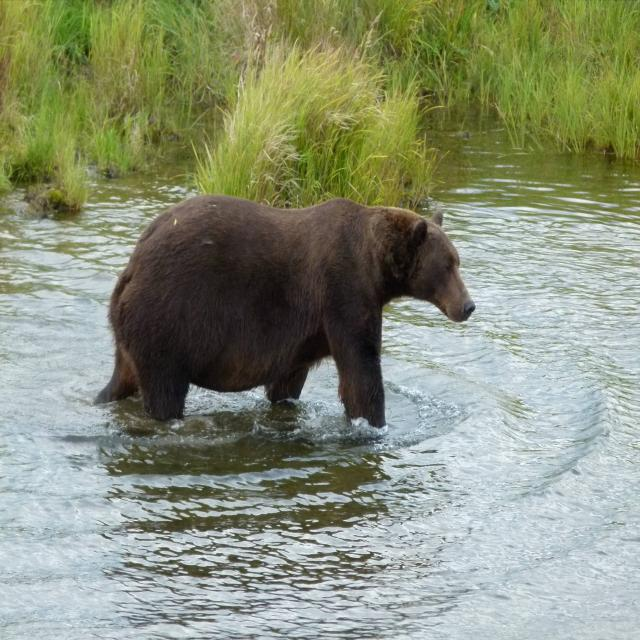bear face: (97, 199, 476, 422)
